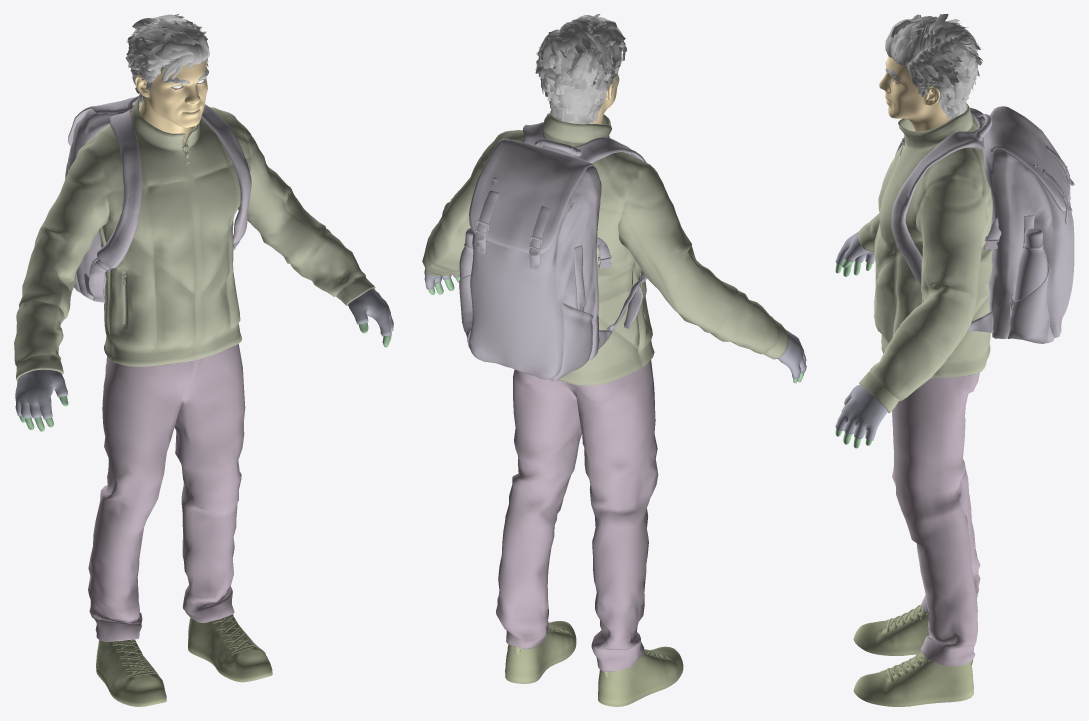
File: asset.gltf
The picture shows the model from 3 angles, left to right: view 1: azimuth 30°, elevation 25°; view 2: azimuth 150°, elevation 25°; view 3: azimuth 270°, elevation 25°; orthographic projection.
Parts seen in each view (by area): view 1: Node1, Node10, Node4, Node11, Node3, Node7, Node5; view 2: Node10, Node4, Node1, Node3, Node11, Node5, Node7; view 3: Node1, Node4, Node10, Node11, Node3, Node7, Node5.
Part boxes in pixels (bbox=[...]): Node1: bbox=[14, 96, 375, 380]; Node10: bbox=[88, 344, 245, 641]; Node4: bbox=[65, 96, 251, 302]; Node11: bbox=[96, 614, 272, 706]; Node3: bbox=[125, 14, 209, 104]; Node7: bbox=[19, 60, 391, 431]; Node5: bbox=[15, 288, 393, 419]; Node10: bbox=[496, 360, 658, 671]; Node4: bbox=[459, 122, 647, 380]; Node1: bbox=[422, 112, 787, 385]; Node3: bbox=[535, 14, 626, 124]; Node11: bbox=[505, 621, 683, 706]; Node5: bbox=[424, 269, 806, 378]; Node7: bbox=[428, 73, 804, 383]; Node1: bbox=[858, 103, 992, 413]; Node4: bbox=[891, 106, 1074, 343]; Node10: bbox=[892, 372, 980, 666]; Node11: bbox=[853, 604, 973, 706]; Node3: bbox=[885, 14, 982, 119]; Node7: bbox=[835, 56, 949, 448]; Node5: bbox=[835, 231, 887, 440].
Size of the model in its own units: 1.12 by 1.88 by 0.628.
